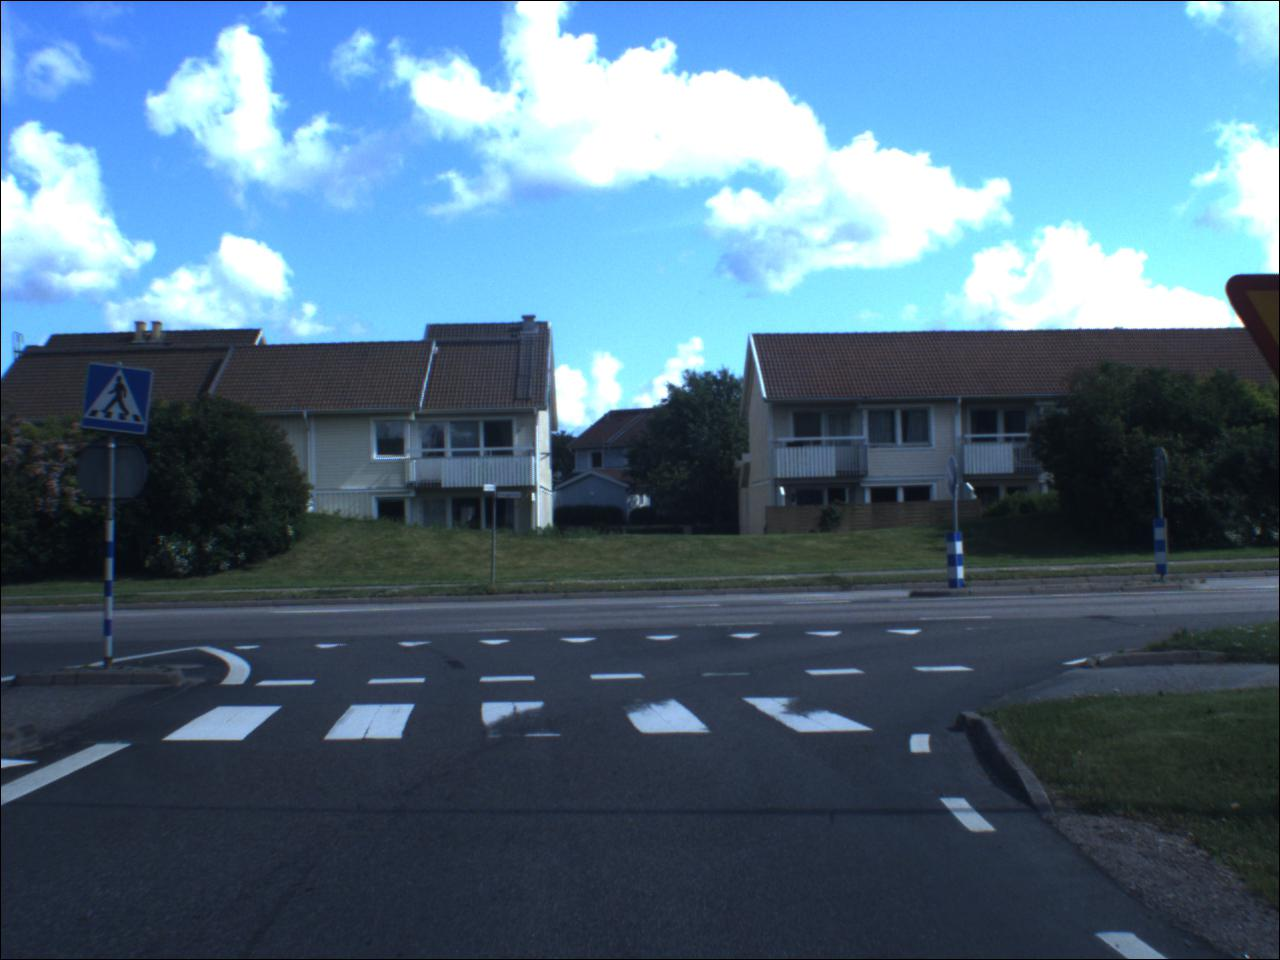GIVE_WAY: (1224, 271, 1279, 391)
PASS_RIGHT_SIDE: (949, 458, 961, 495)
PEDESTRIAN_CROSSING: (83, 365, 156, 437)
